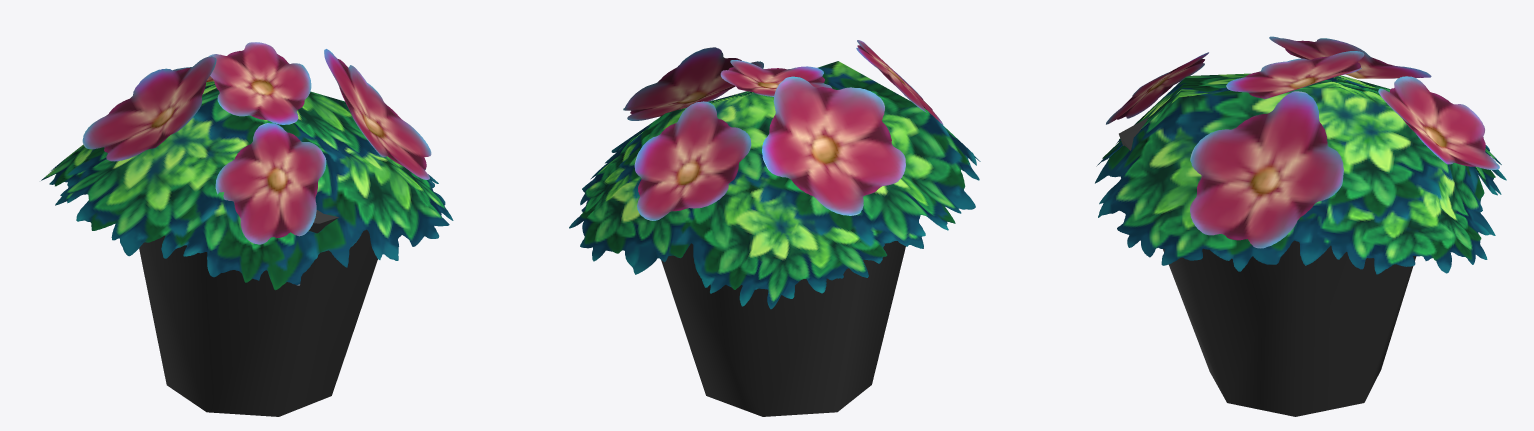
Rendered from SM_PROP_PLANT_pot_v2_03.FBX.
3 views of the same model, side by side, from view 1: azimuth 30°, elevation 25°; view 2: azimuth 150°, elevation 25°; view 3: azimuth 270°, elevation 25° (orthographic). The views are drawn at different scales.
Visible parts, largest first — view 1: SM_PROP_PLANT_pot_v2_03; view 2: SM_PROP_PLANT_pot_v2_03; view 3: SM_PROP_PLANT_pot_v2_03.
Part boxes in pixels (bbox=[...]): SM_PROP_PLANT_pot_v2_03: bbox=[41, 42, 453, 416]; SM_PROP_PLANT_pot_v2_03: bbox=[569, 40, 980, 416]; SM_PROP_PLANT_pot_v2_03: bbox=[1095, 36, 1506, 416].
Size of the model in its own units: 77.84 by 76.81 by 66.34.
